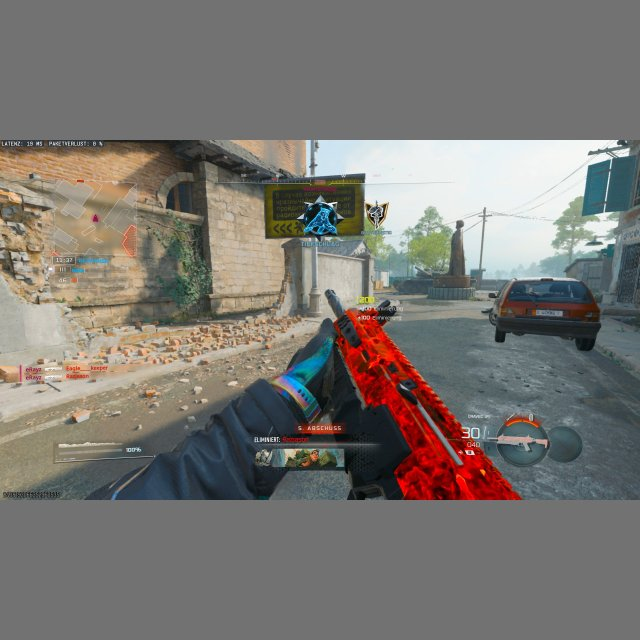player: (300, 196, 343, 237)
